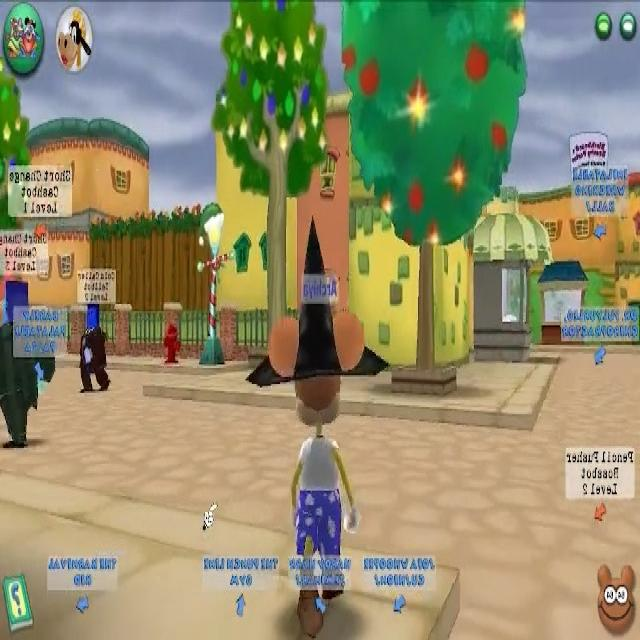coldcaller: (75, 269, 117, 393)
shortchange: (0, 229, 55, 447)
